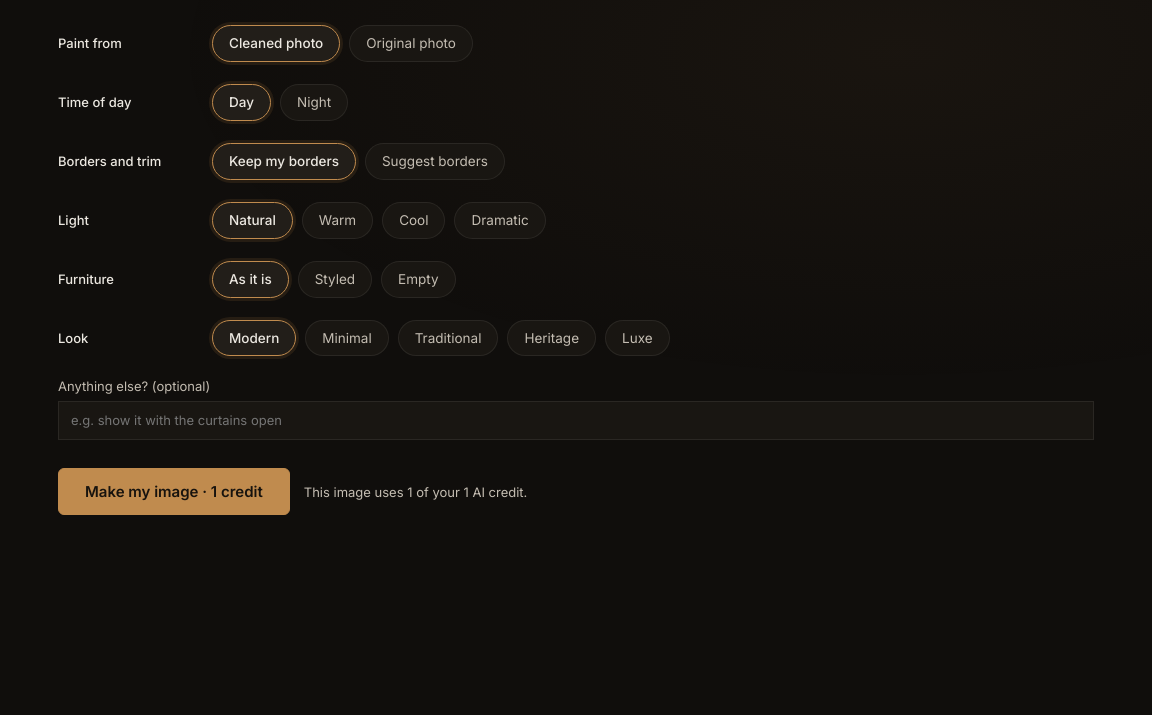
Test: RenderStudio › shows the reason a failed render gives, and does not pretend it succeeded
This screenshot has width=1152, height=715.
(page scrolled)
What coordinates should you click on to do the following:
click the button "Make my image · 1 credit"
I would click on:
 (174, 492)
Its box is [58,468,290,515].
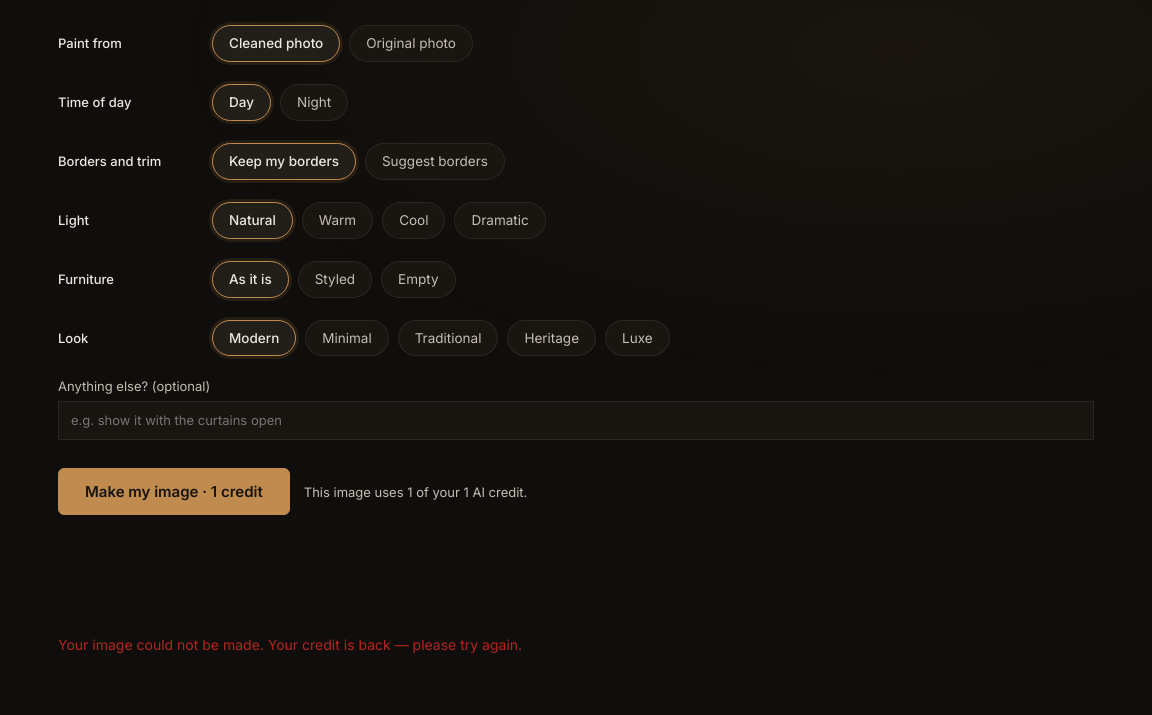
Check: the message shows "Your credit is back", box [58,636,522,653]
